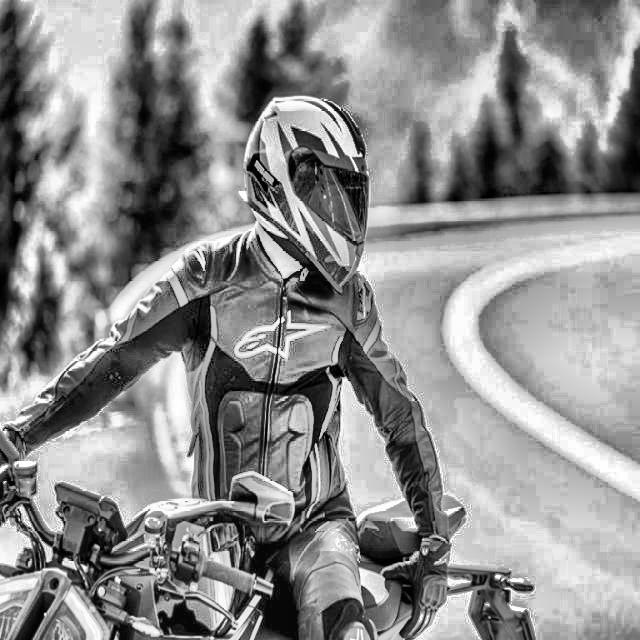Helmet: (240, 86, 372, 302)
